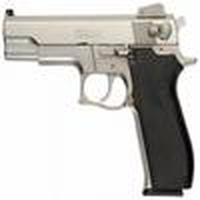gun: (3, 8, 199, 199)
